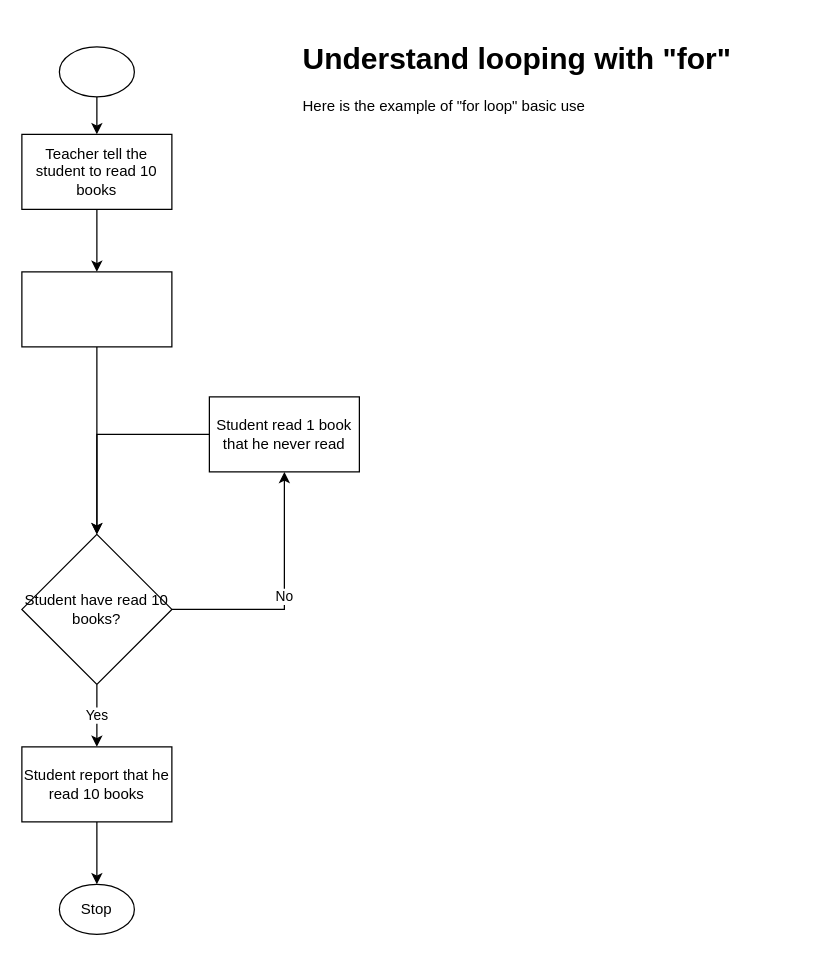
Image size: 819x956. Some labels were removed from this diagram. Each missing label, with the centre of its shape:
"Start" goes at point 96,71.
"Student says Yes" goes at point 96,309.
